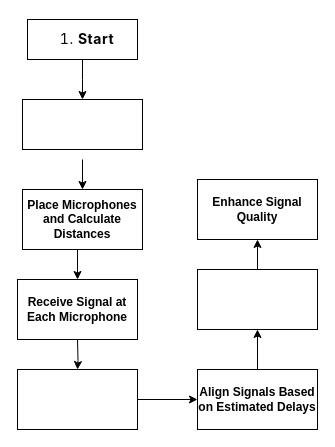
This 335x447 diagram has some shape labels left out. Each missing label, with the centre of its shape:
"Estimate Time Delays Using Cross-Correlation" goes at point 77,399.
"Record/Simulate Speech Signal" goes at point 82,124.
"Sum Aligned Signals" goes at point 257,299.
